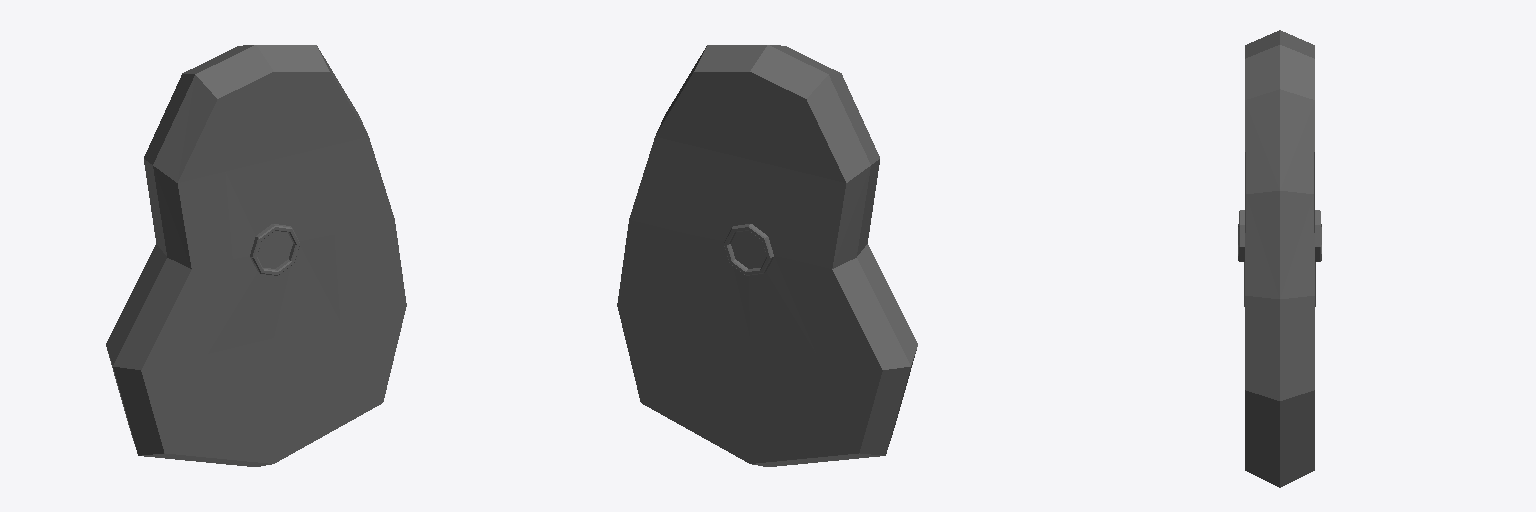
Rendered from Steak.obj.
3 renders of one model, left to right at view 1: azimuth 30°, elevation 25°; view 2: azimuth 150°, elevation 25°; view 3: azimuth 270°, elevation 25°, orthographic.
Parts seen in each view (by area): view 1: Steak; view 2: Steak; view 3: Steak.
Boxes of the visible parts, <box> form: Steak: <box>106,45,406,466</box>; Steak: <box>617,45,917,466</box>; Steak: <box>1238,30,1321,487</box>.
Size of the model in its own units: 15.91 by 22.46 by 4.03.